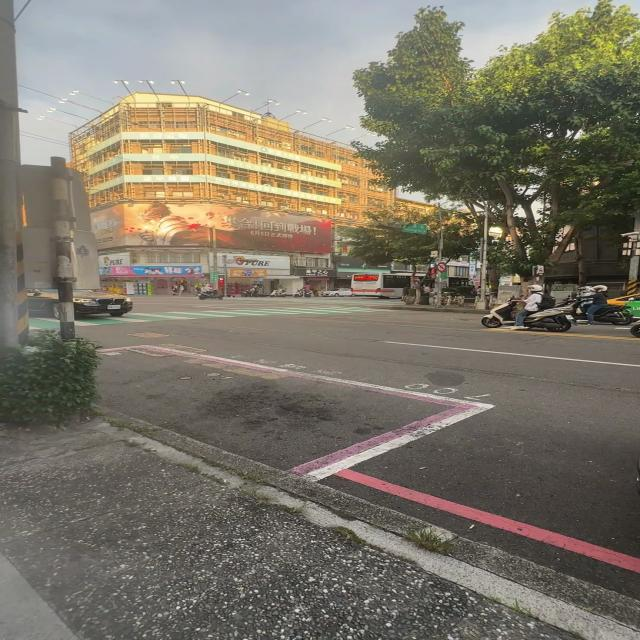bus: (351, 272, 410, 299), (446, 278, 470, 288), (417, 272, 432, 283)
car: (73, 289, 132, 316), (26, 289, 60, 318), (607, 294, 640, 318)
crosswalk: (75, 306, 414, 327), (223, 298, 406, 307), (29, 317, 60, 330)
motocycle: (525, 308, 574, 332), (481, 301, 512, 328), (593, 305, 633, 325)
